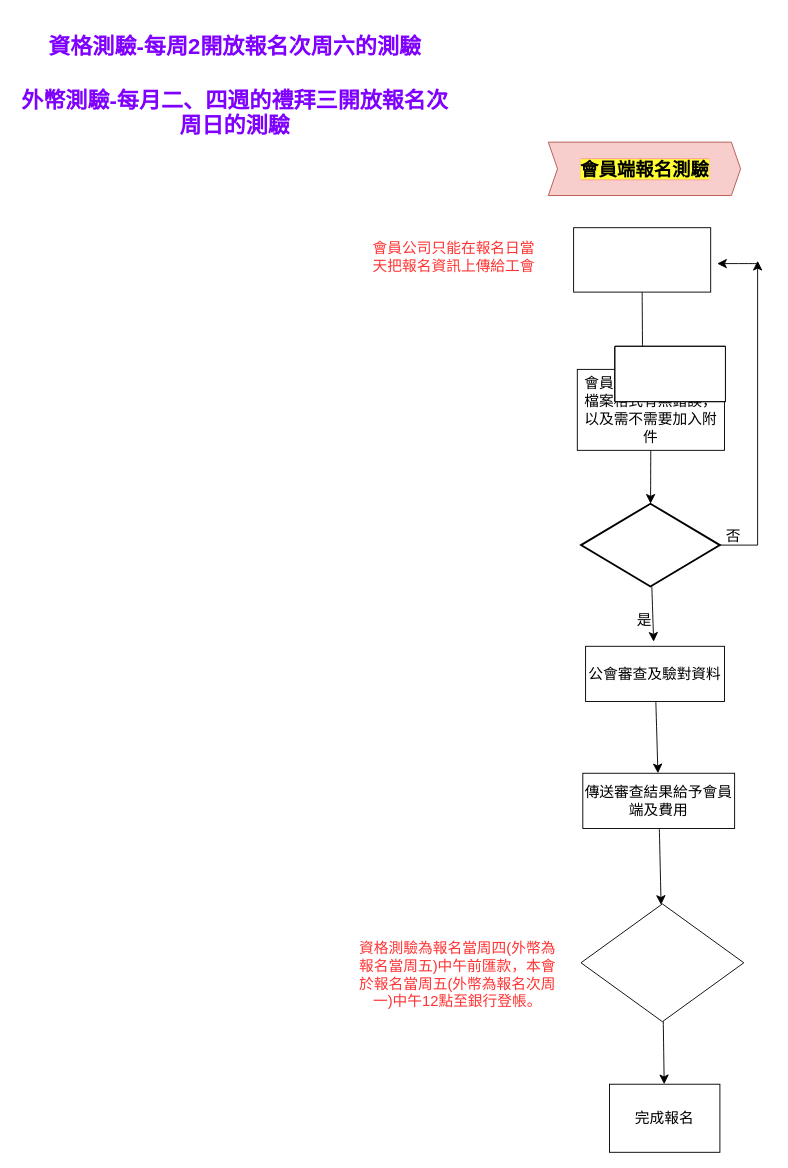
This 788x1168 diagram has some shape labels left out. Here are the shapes that lost their labels. From the top down, the centre of each, then its label:
point 642,259: 會員公司傳送相關報名資訊
point 650,544: 格式審核
point 662,962: 本會檢查款項是否入帳
